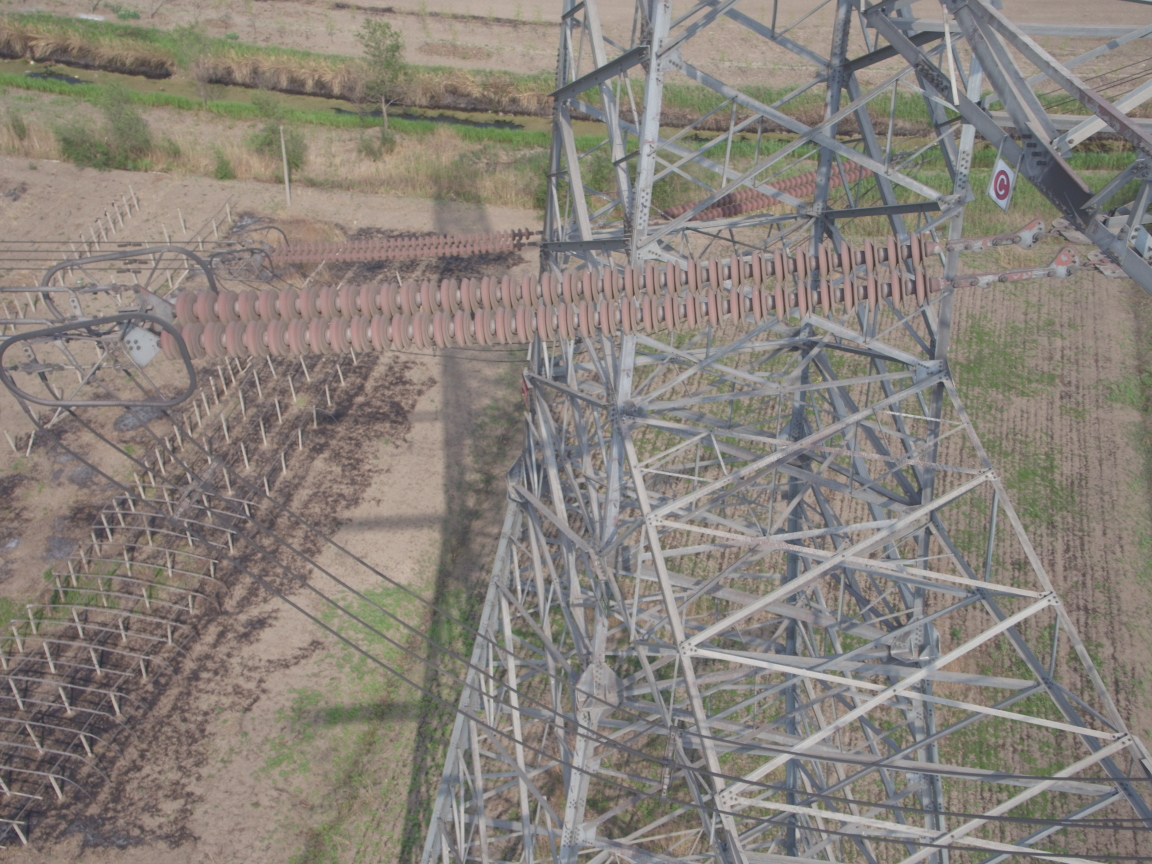insulator: (151, 227, 981, 366), (257, 225, 540, 270)
